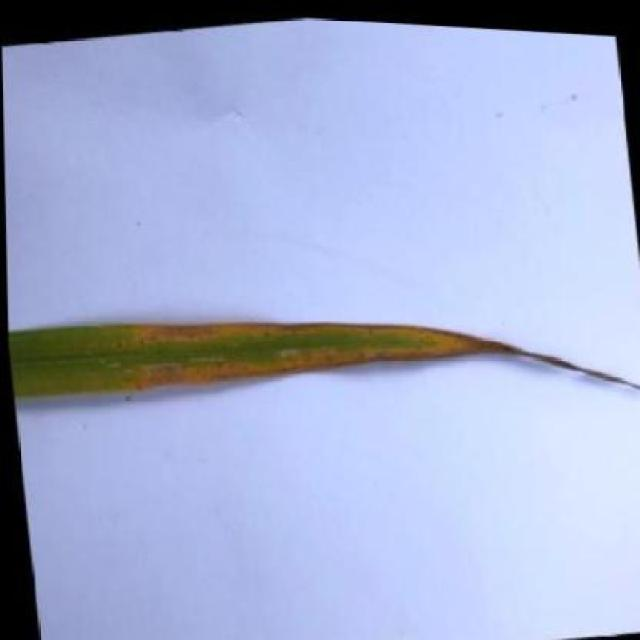Rice False Smut: (12, 318, 559, 395)
